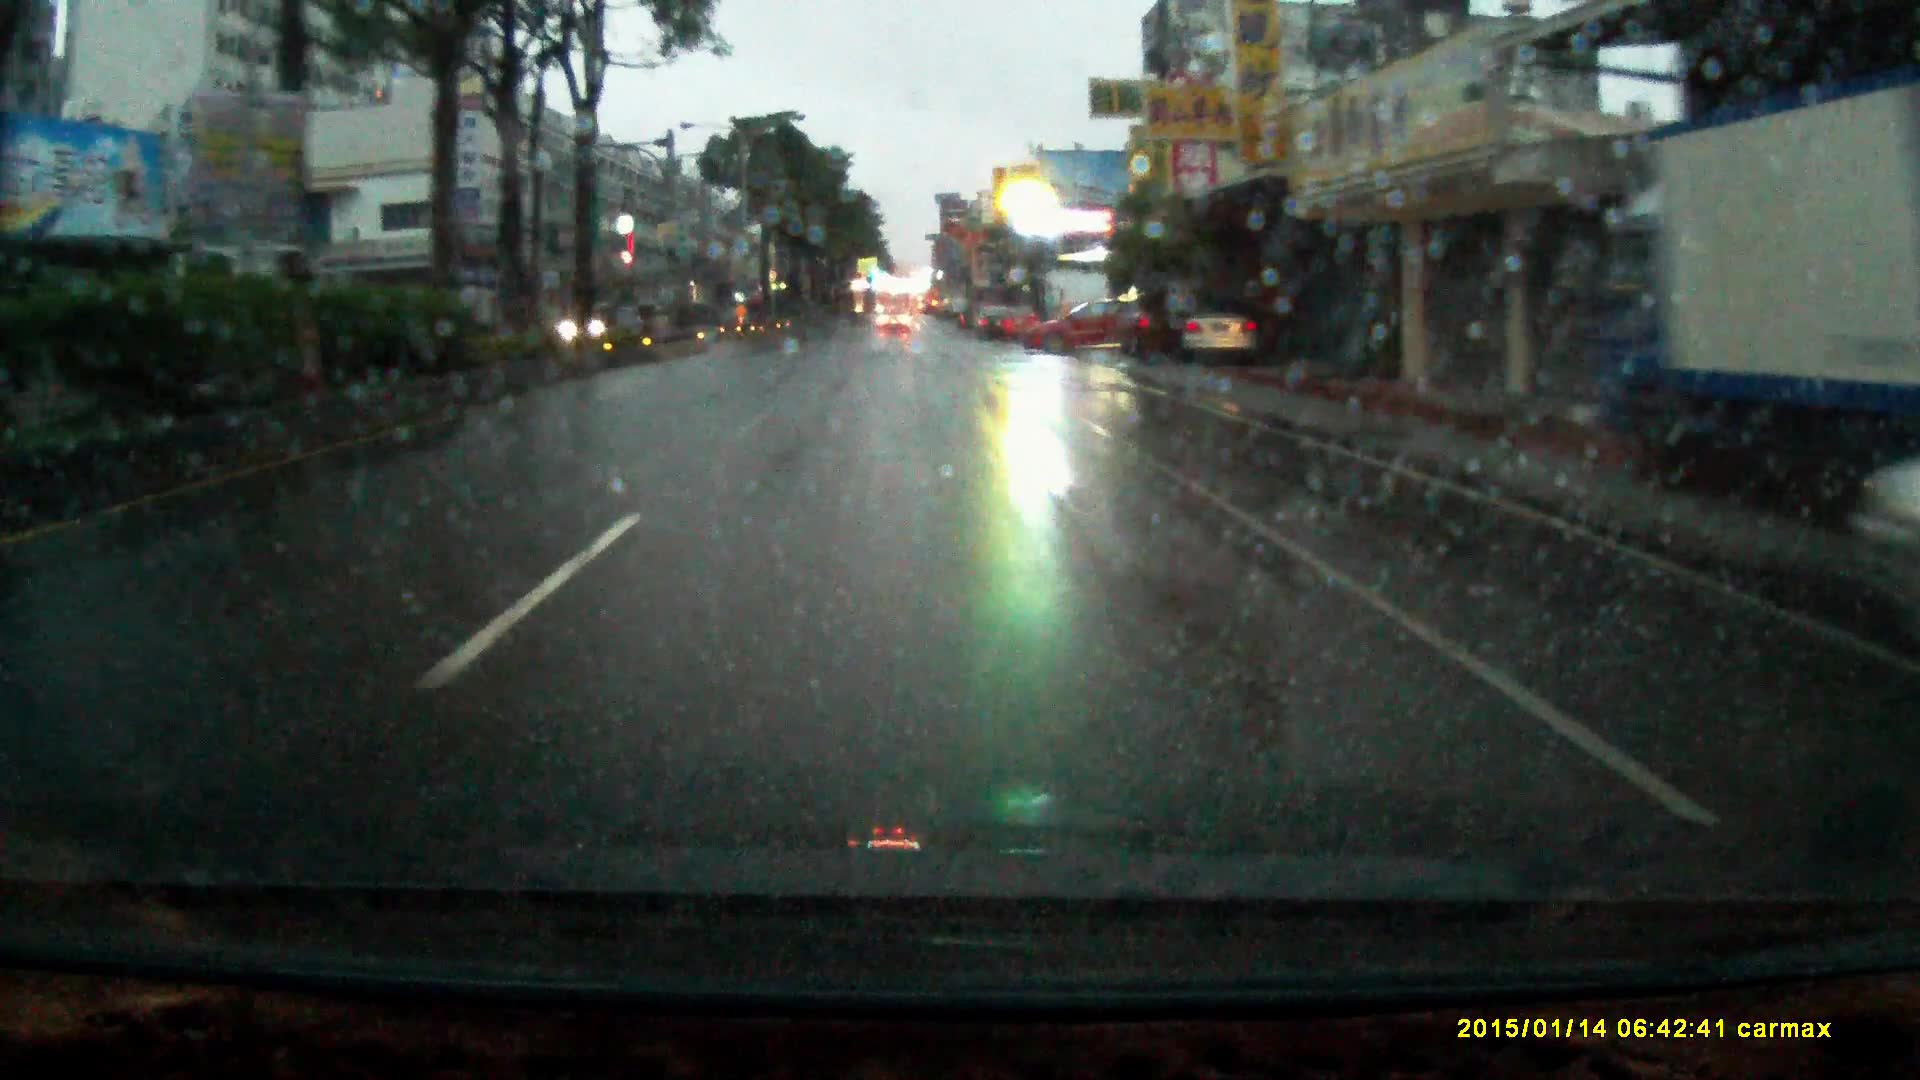vehicle: (1549, 95, 1920, 472), (1021, 294, 1155, 351), (1176, 291, 1263, 363), (1118, 291, 1192, 356), (1001, 299, 1043, 335), (880, 305, 913, 332)
